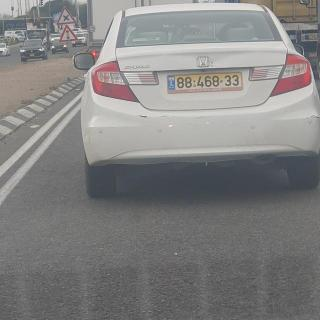LicensePlate: (175, 73, 242, 90)
